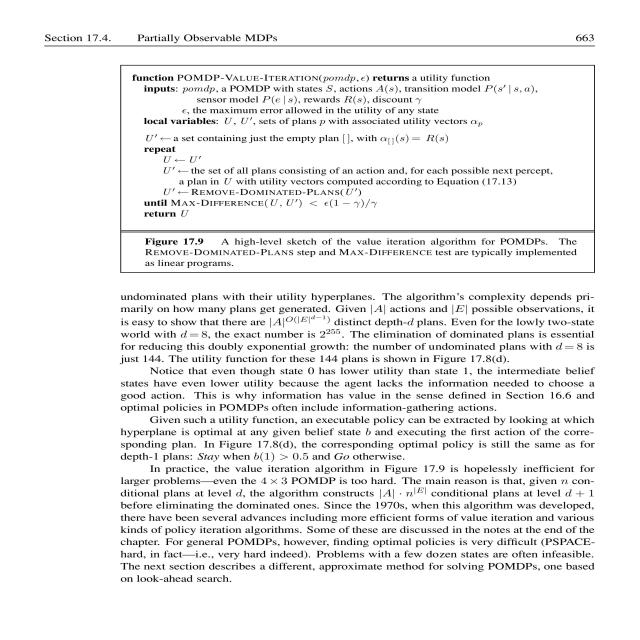diagram: (94, 56, 623, 290)
